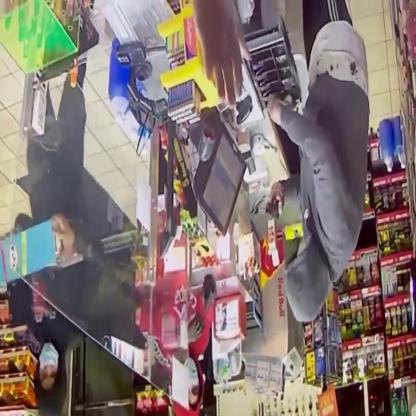Pistol: (256, 174, 286, 229), (200, 264, 218, 318)
